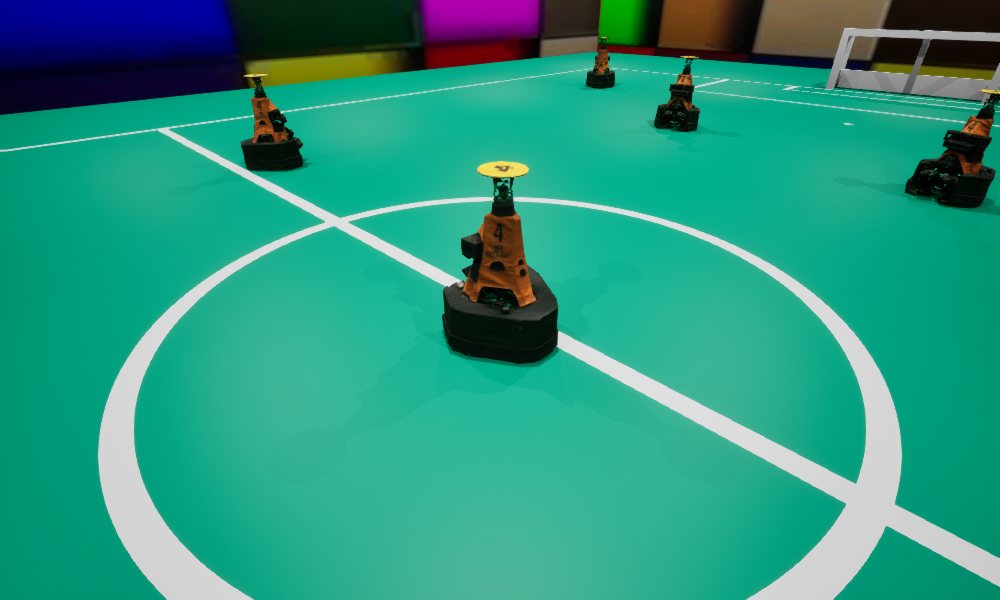0 orange robot TechUnited: (442, 161, 557, 363), (905, 89, 999, 207), (240, 74, 302, 170), (654, 56, 699, 130), (586, 37, 614, 88)
